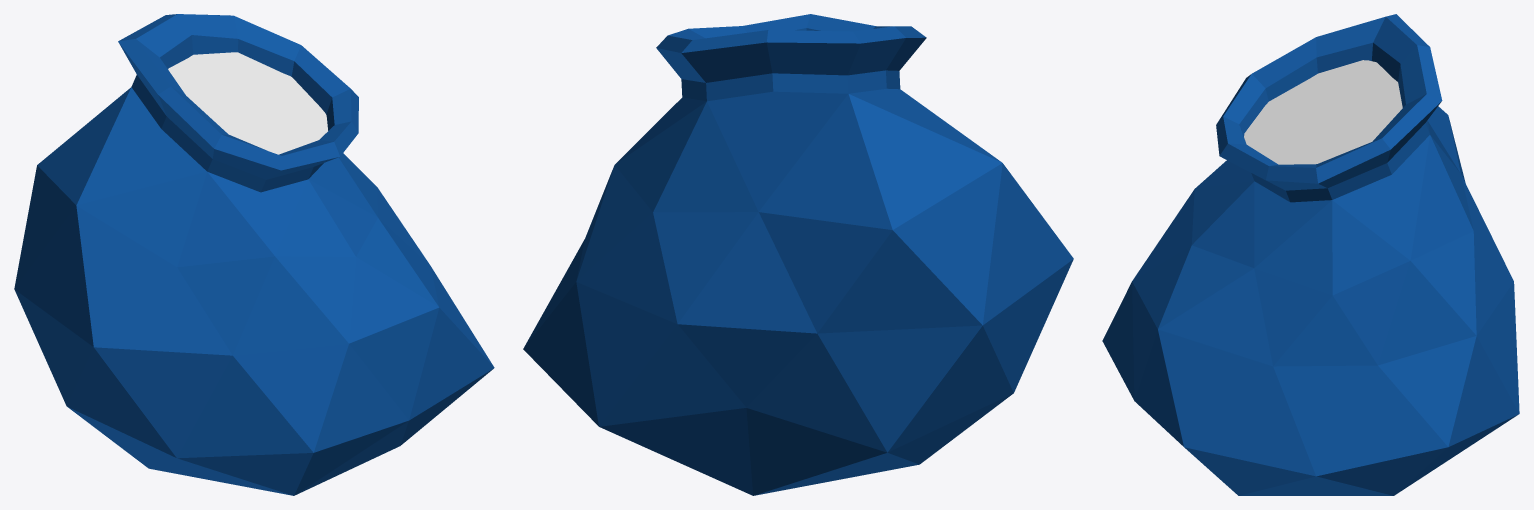
File: Bag_with_presents.fbx
The picture shows the model from 3 angles, left to right: view 1: azimuth 30°, elevation 25°; view 2: azimuth 150°, elevation 25°; view 3: azimuth 270°, elevation 25°; orthographic projection. The views are drawn at different scales.
Visible parts, largest first — view 1: Bag with presents, Portal; view 2: Bag with presents; view 3: Bag with presents, Portal.
Boxes of the visible parts, bbox=[...] form: Bag with presents: bbox=[14, 14, 494, 495]; Portal: bbox=[168, 52, 327, 154]; Bag with presents: bbox=[523, 14, 1073, 495]; Bag with presents: bbox=[1102, 14, 1519, 495]; Portal: bbox=[1244, 60, 1402, 164].
Size of the model in its own units: 122 by 124 by 112.
